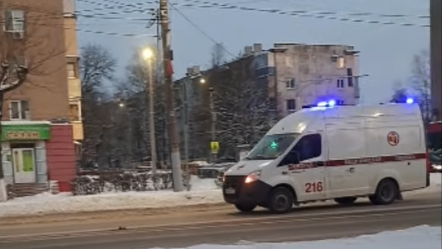ambulance: (222, 101, 433, 213)
